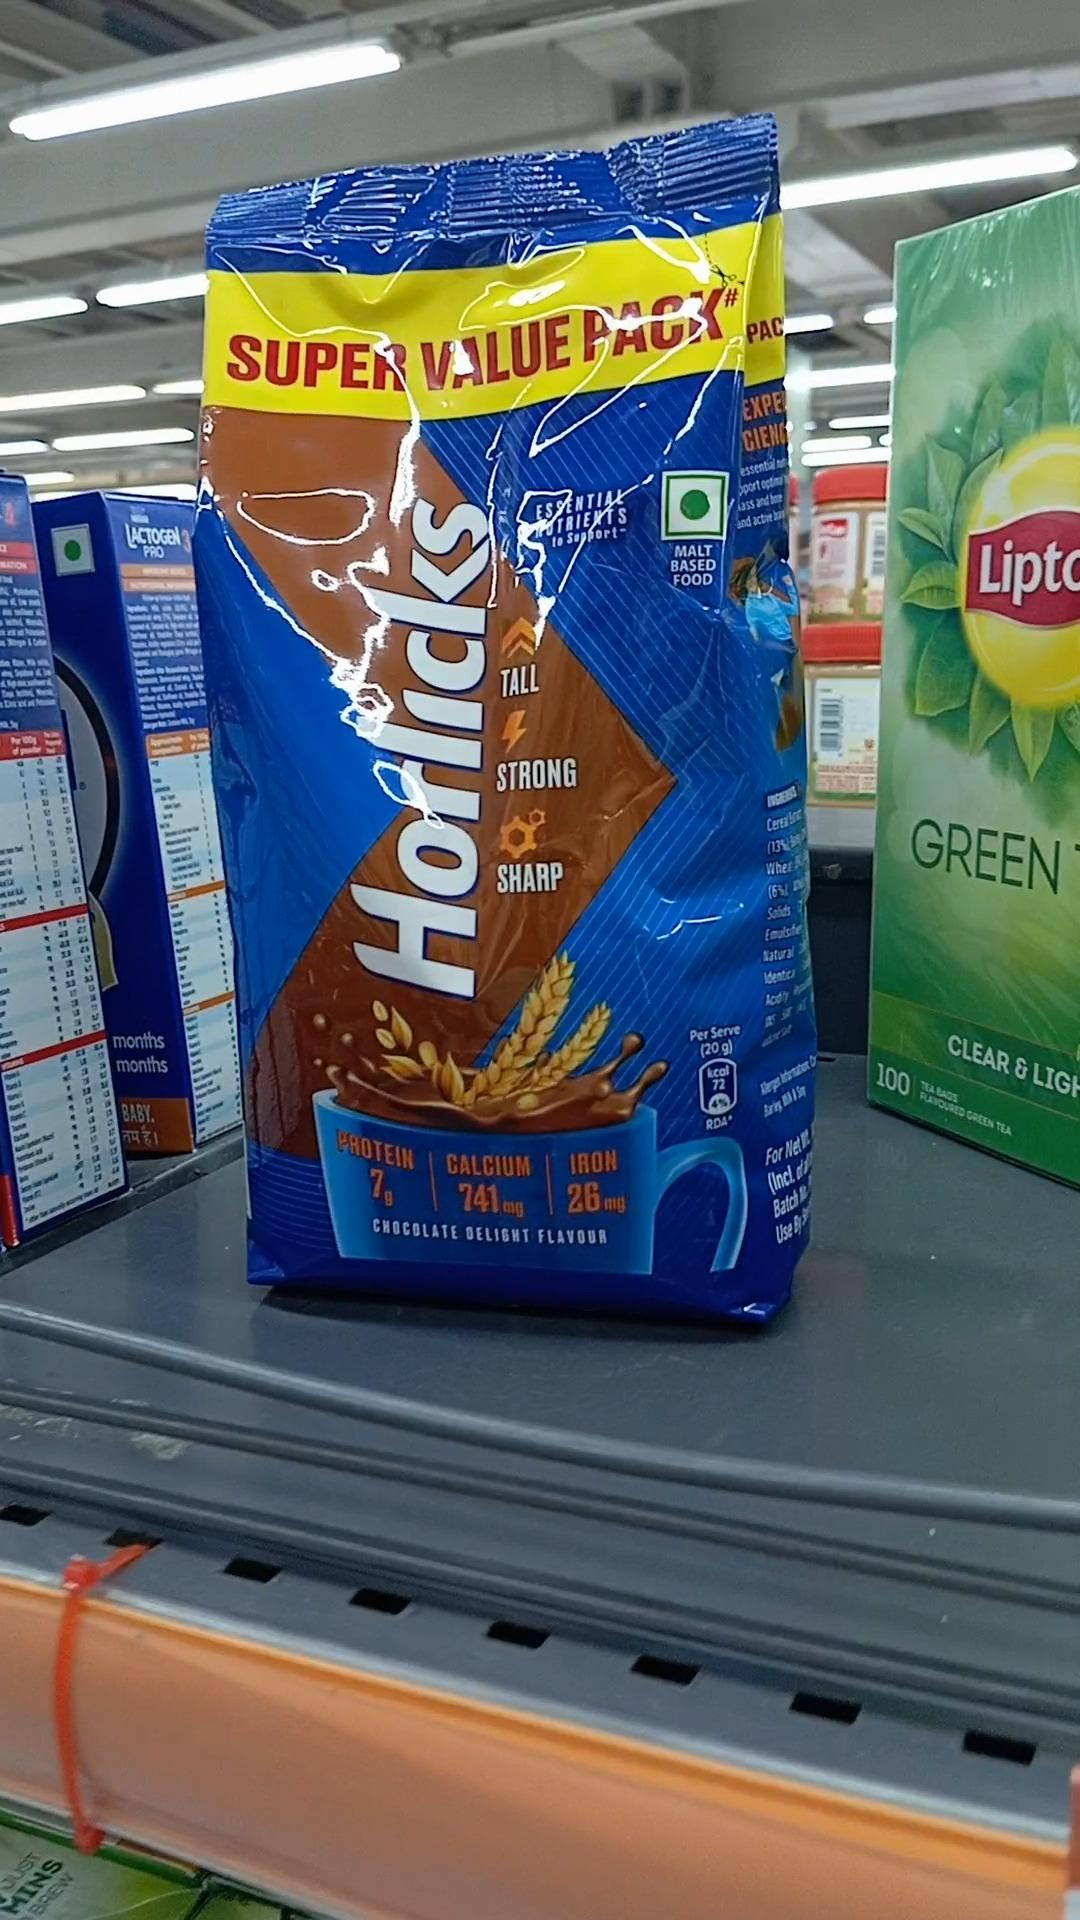HORLICK_CHOCOLATE_750_G_POUCH: (196, 175, 785, 1337)
